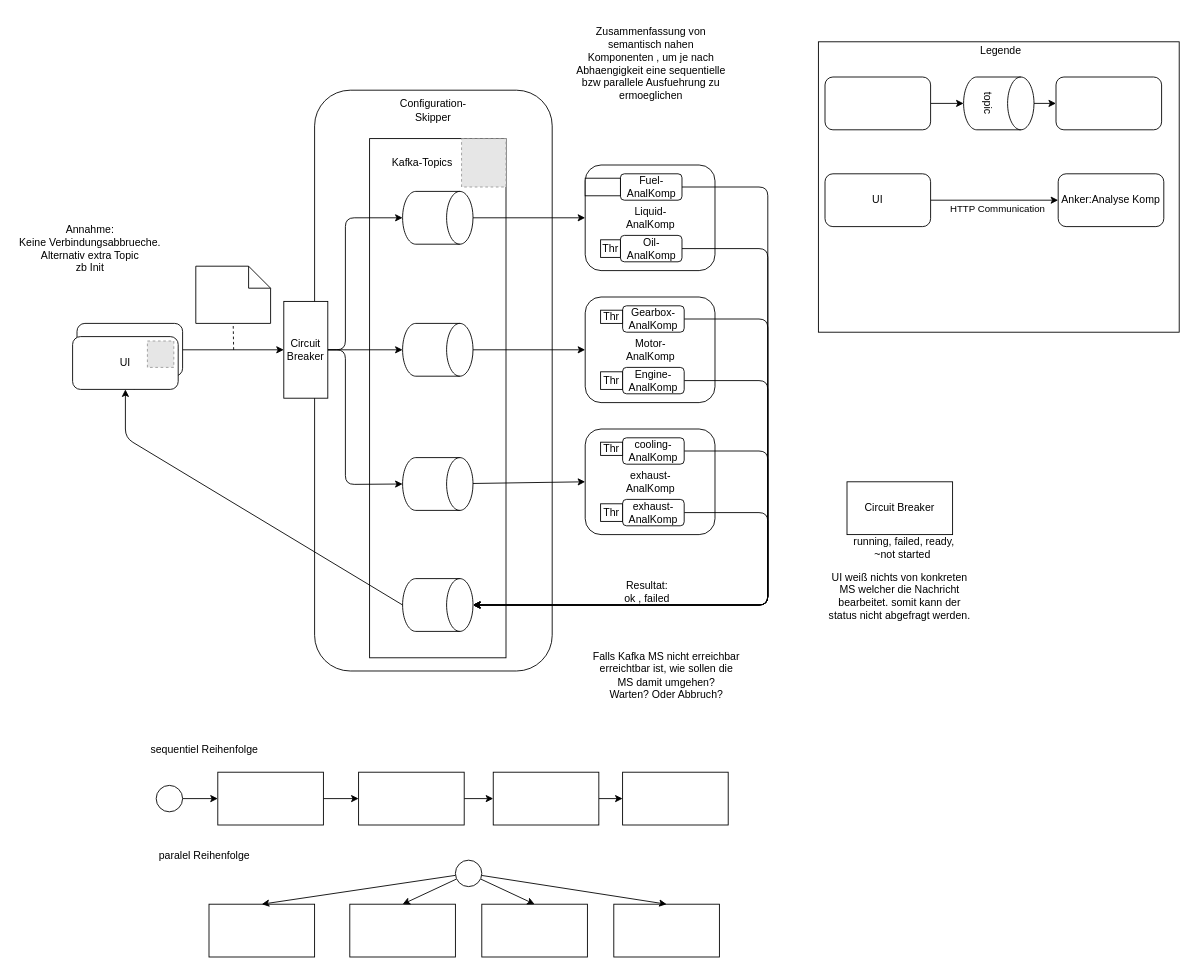
Some shapes in this 1194 by 972 pixel diagram are drawn without their labels. Grey dashed boxes stand in for pictures. The shapes that lost their labels are listed below. From the top down, each one's centre as x and y in pixels, then its label:
(x=877, y=103): producer
(x=1108, y=103): consumer
(x=602, y=186): Thread
(x=437, y=217): liquid
(x=233, y=294): Configuration Body
(x=437, y=349): motor
(x=437, y=483): exhaust
(x=437, y=604): status
